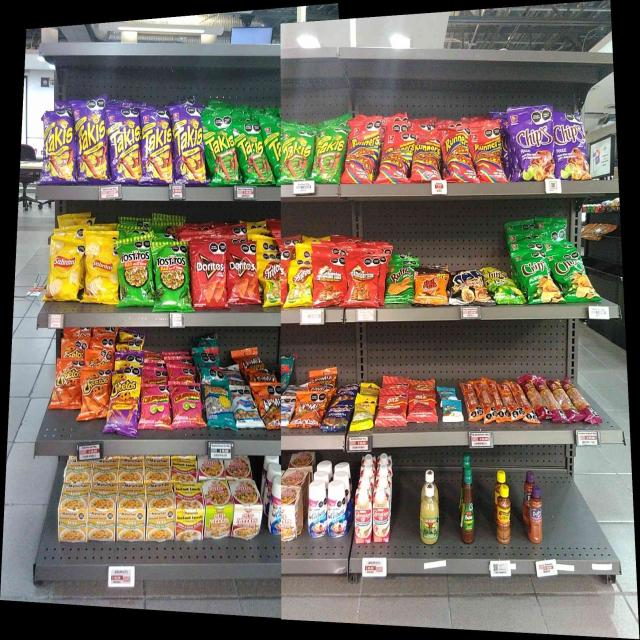bitzAlmendras: (442, 398, 463, 422)
bitzEnchilado90: (409, 389, 437, 424), (378, 392, 406, 425)
bitzEnchilado95: (466, 381, 525, 418)
bitzHabanero: (528, 376, 592, 424)
bokadosCacahuates: (324, 404, 349, 430)
botaneraChilito: (496, 486, 511, 542)
cheetosFlaminHot: (110, 372, 138, 434)
cheetosOriginal: (81, 370, 108, 418), (57, 359, 80, 410)
chipsFuego: (509, 111, 554, 179), (556, 114, 588, 178)
chipsJalapeno: (559, 255, 592, 302), (526, 257, 557, 304)
chipsPapatinas: (492, 279, 524, 304)
churrumais: (173, 380, 202, 428), (140, 386, 171, 430)
delPrimoSalsa: (419, 487, 438, 544)
doritosNacho: (191, 242, 225, 306), (227, 244, 256, 305)
fritosLimon: (287, 262, 311, 308), (258, 257, 280, 307)
hotNutsOriginal: (414, 268, 449, 303)
leoCacahuates: (230, 387, 256, 428)
leoMix: (258, 382, 282, 429), (295, 391, 321, 429), (309, 368, 336, 390)
maruchanPollo: (59, 484, 87, 540), (88, 483, 115, 541), (118, 481, 144, 541), (146, 485, 174, 540)
maruchanRes: (176, 485, 203, 540)
nestleCarnation: (373, 488, 389, 543), (355, 492, 371, 544)
nestleLechera: (328, 484, 348, 536), (308, 483, 326, 538), (270, 484, 279, 534)
nissinCamaron: (206, 483, 232, 539)
nissinRes: (233, 481, 260, 540), (282, 489, 302, 539)
popKarameladas: (451, 271, 490, 304)
rancheritos: (348, 258, 384, 305), (313, 256, 346, 306)
rufflesQueso: (387, 266, 412, 303)
runners: (378, 130, 412, 182), (344, 128, 376, 182), (472, 132, 506, 182), (442, 130, 471, 181), (412, 139, 440, 181)
sabritasOriginal: (85, 232, 118, 304), (50, 240, 82, 301)
salsaBufalo: (461, 467, 474, 543)
semillasCalabaza: (352, 394, 374, 428)
semillasGirasol: (204, 383, 229, 427)
tajinDulce: (530, 487, 542, 541)
takisFuego: (174, 104, 206, 185), (79, 103, 109, 183), (110, 108, 140, 184), (143, 109, 173, 183), (44, 115, 77, 182)
takisOriginal: (272, 128, 312, 180), (234, 124, 268, 184), (208, 118, 232, 184), (315, 128, 342, 182)
tostitos: (153, 244, 190, 311), (119, 241, 152, 305)
